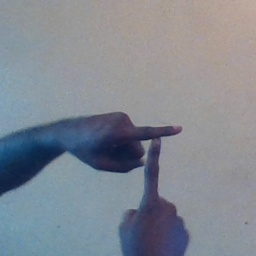T: (107, 108, 193, 221)
